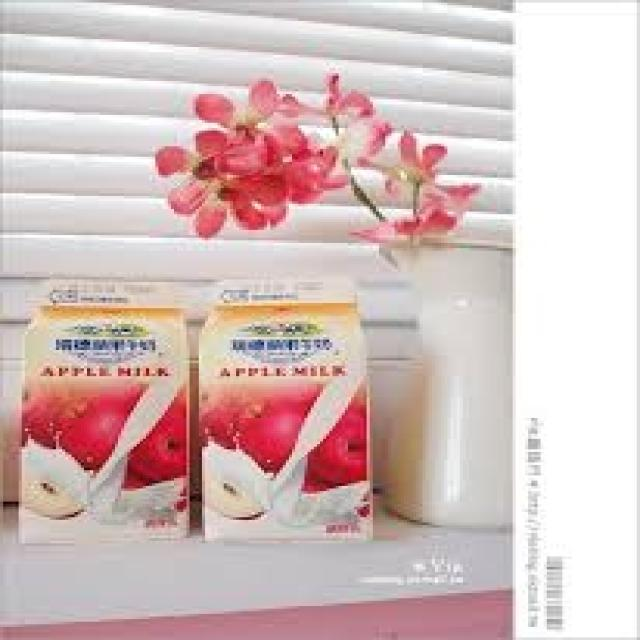RuiSui_AppleMilk: (10, 270, 196, 539), (200, 270, 376, 535)
